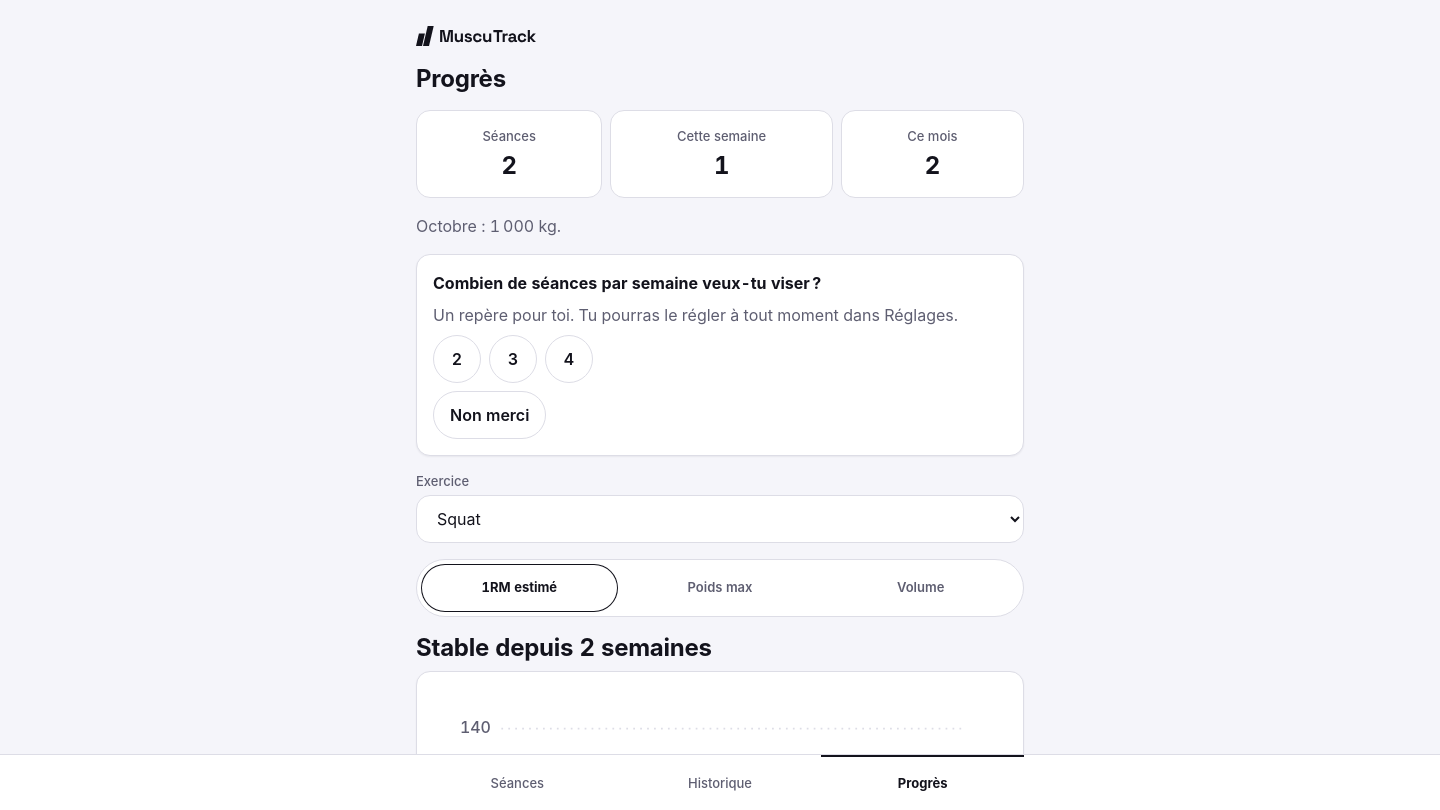
Test: Progrès : proposition d’objectif (critère 17) › tap sur « 3 » : objectif enregistré, carte retirée, toast, pastilles visibles
Click the button named "3 séances par semaine" at (513, 358), box [489, 334, 537, 382]
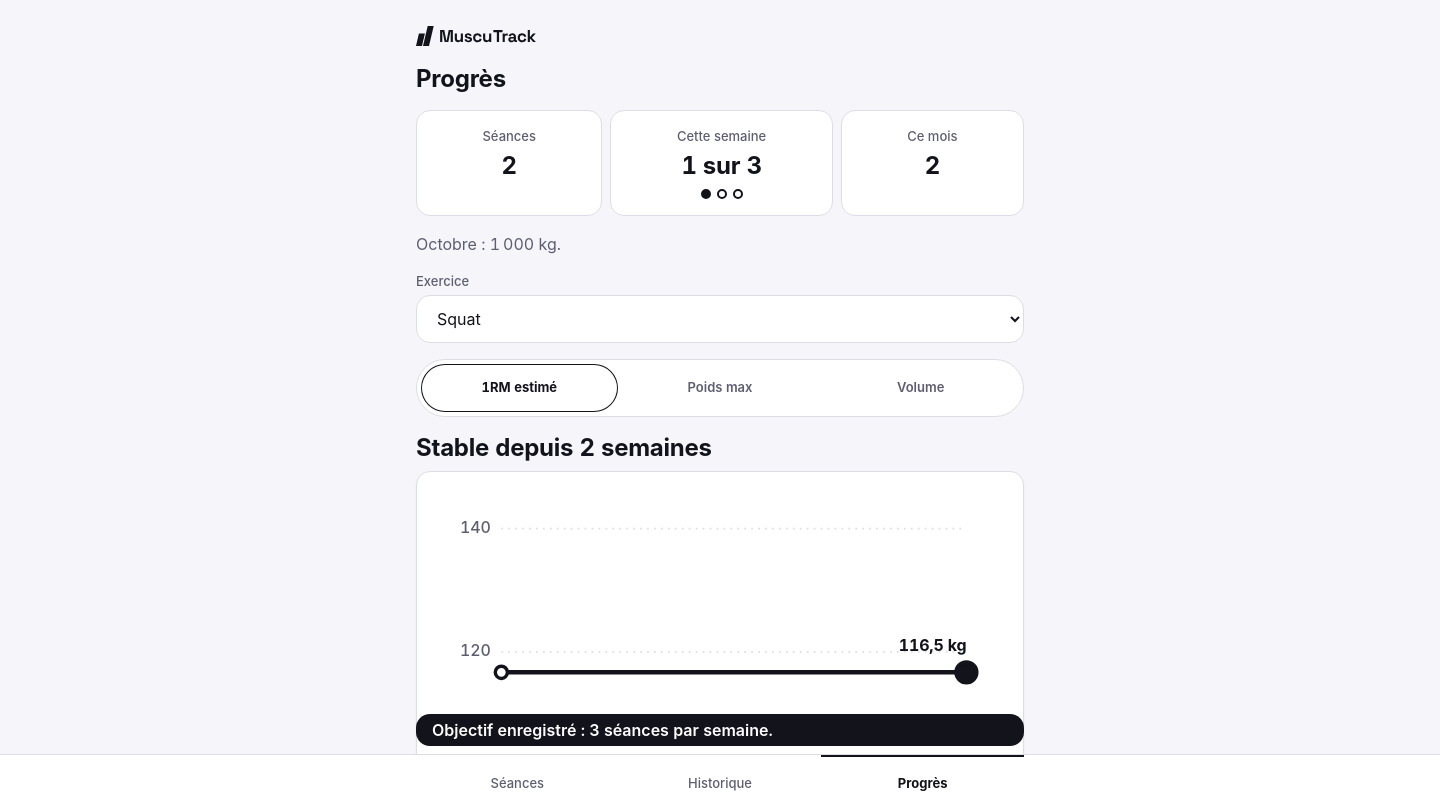
Expected: the heading "Combien de séances par semaine veux-tu viser" is gone
Expected: the text "Objectif enregistré : 3 séances par semaine." is shown, [432, 718, 773, 742]
Expected: the number of elements with class "rhythm-dot" is 3, [701, 188, 711, 198]; [717, 188, 727, 198]; [733, 188, 743, 198]
